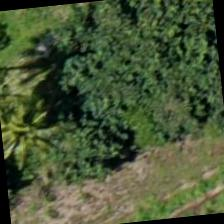Kelapa_Sawit: (0, 89, 81, 187)
